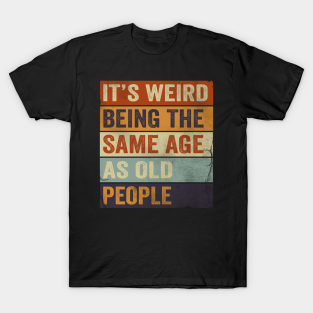design: (98, 78, 215, 211)
